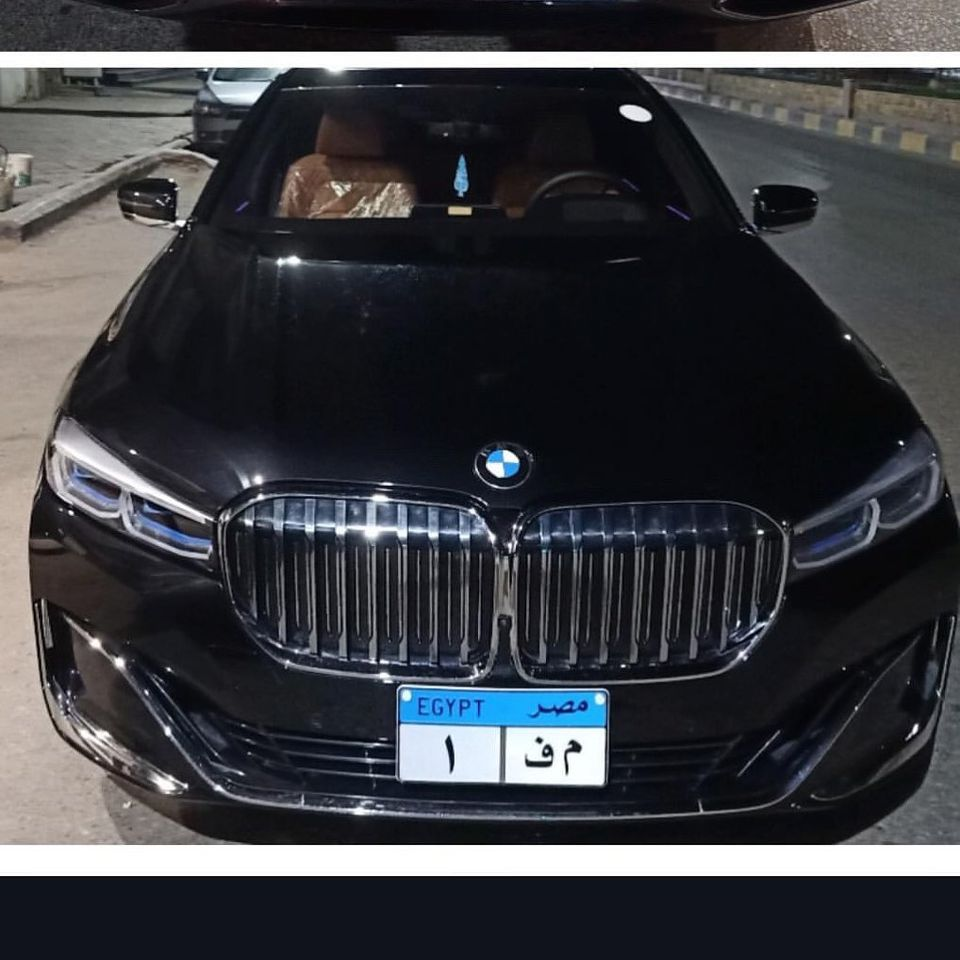carpl: (398, 715, 605, 786)
